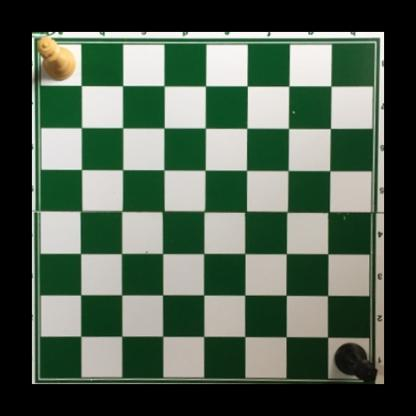black-queen: (335, 343, 379, 384)
white-queen: (35, 34, 77, 81)
